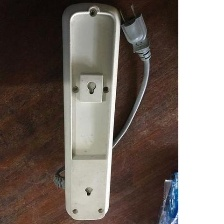three_eye_plug: (57, 0, 122, 222)
